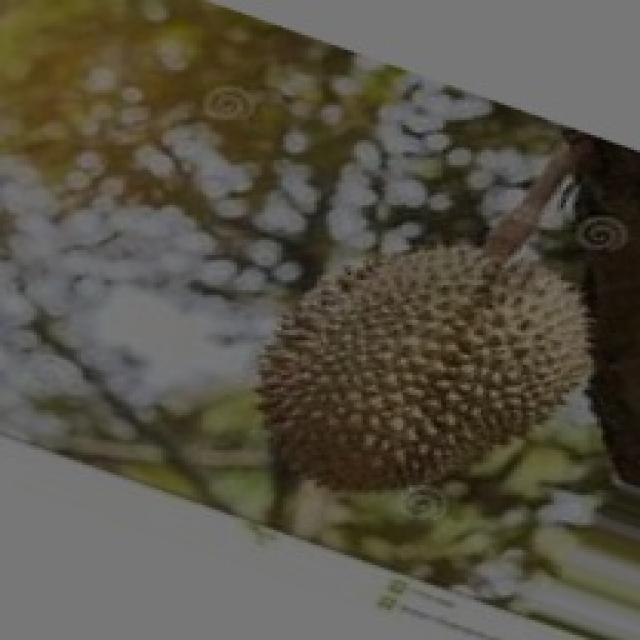fruit: (222, 190, 630, 532)
